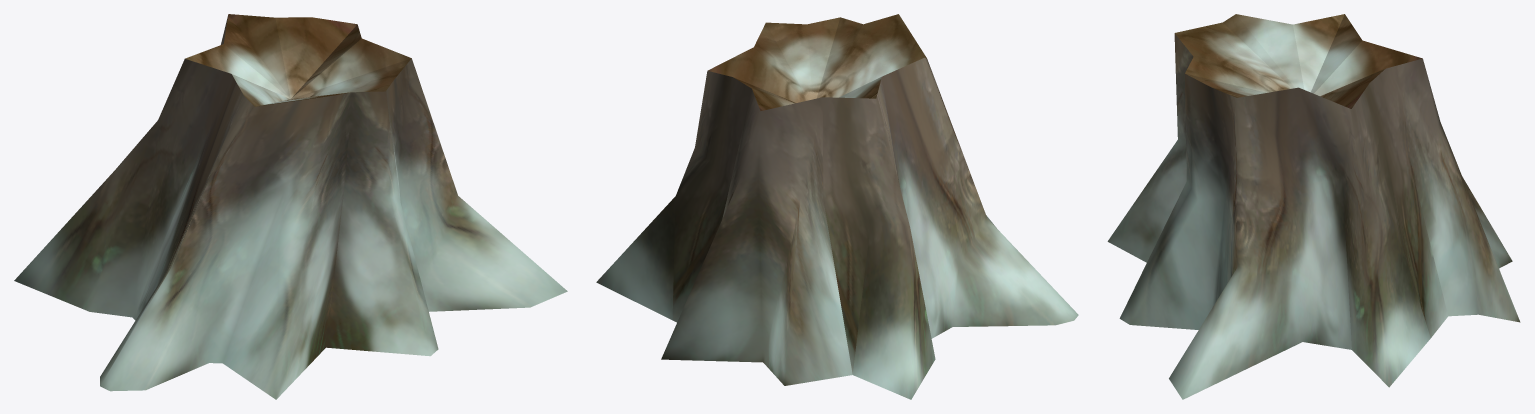
Rendered from GD_tree_04.FBX.
The picture shows the model from 3 angles, left to right: view 1: azimuth 30°, elevation 25°; view 2: azimuth 150°, elevation 25°; view 3: azimuth 270°, elevation 25°; orthographic projection. The views are drawn at different scales.
Parts seen in each view (by area): view 1: GD_tree_04; view 2: GD_tree_04; view 3: GD_tree_04.
Boxes of the visible parts, x1,y1,x2,y2 form: GD_tree_04: (14,14,567,399); GD_tree_04: (596,14,1078,399); GD_tree_04: (1107,14,1520,399).
Bounding box in the file's own units: 2.05 × 1.12 × 1.66.
